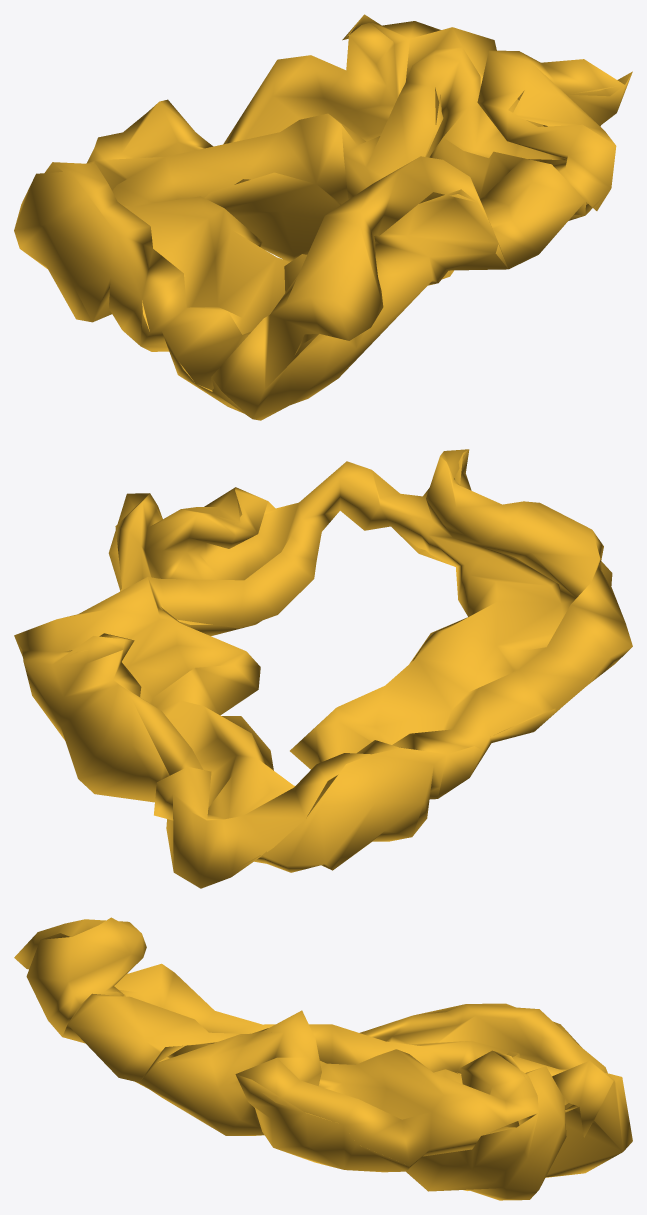
Rendered from nervoso-orbital-gyri-l.glb.
3 views of the same model, one above another, from view 1: azimuth 30°, elevation 25°; view 2: azimuth 150°, elevation 25°; view 3: azimuth 270°, elevation 25° (orthographic). The views are drawn at different scales.
Visible parts, largest first — view 1: Orbital gyri.l; view 2: Orbital gyri.l; view 3: Orbital gyri.l.
Boxes of the visible parts, box(x1,y1,x2,y2) form: Orbital gyri.l: box(14, 14, 632, 420); Orbital gyri.l: box(14, 449, 632, 888); Orbital gyri.l: box(14, 917, 632, 1200).
Bounding box in the file's own units: 0.0487 × 0.0272 × 0.0614.
